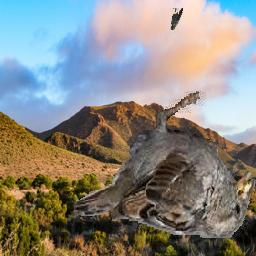Crow: (171, 8, 184, 30)
Sparrow: (75, 88, 256, 238)
